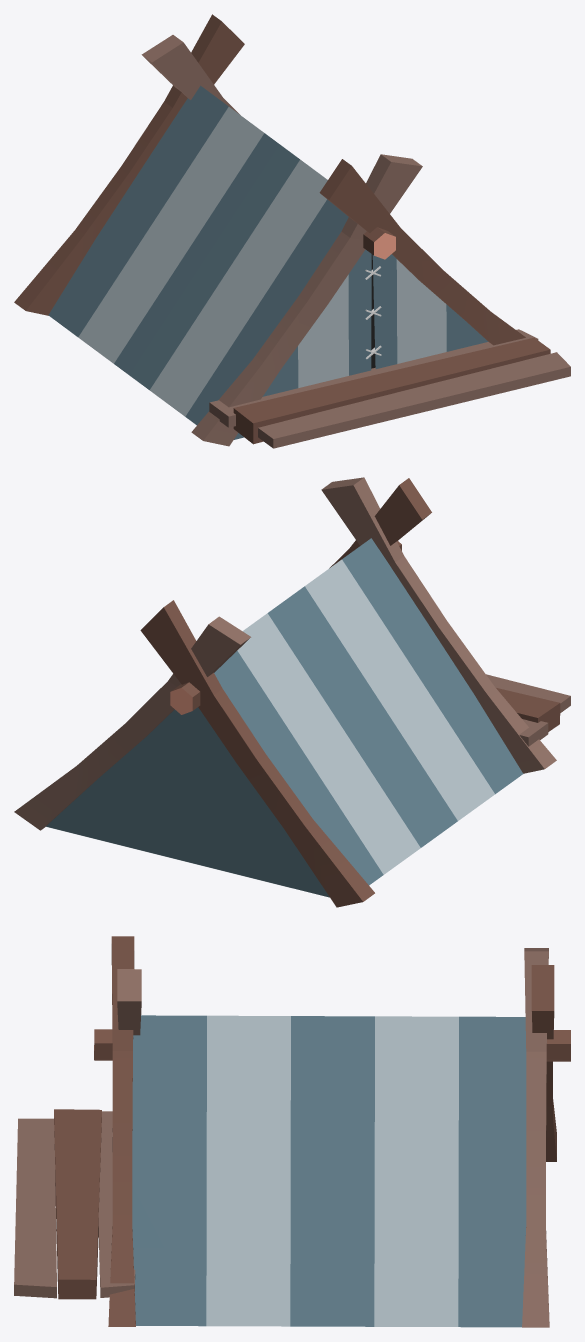
File: Building_021.glb
The picture shows the model from 3 angles, top to bottom: view 1: azimuth 30°, elevation 25°; view 2: azimuth 150°, elevation 25°; view 3: azimuth 270°, elevation 25°; orthographic projection. The views are drawn at different scales.
Parts seen in each view (by area): view 1: Building_021; view 2: Building_021; view 3: Building_021.
Boxes of the visible parts, x1=… form: Building_021: x1=14, y1=14, x2=570, y2=448; Building_021: x1=14, y1=477, x2=570, y2=907; Building_021: x1=14, y1=936, x2=570, y2=1327.
Bounding box in the file's own units: 6.27 × 4.5 × 7.5.
Materials: 1 (1 with a texture image).
